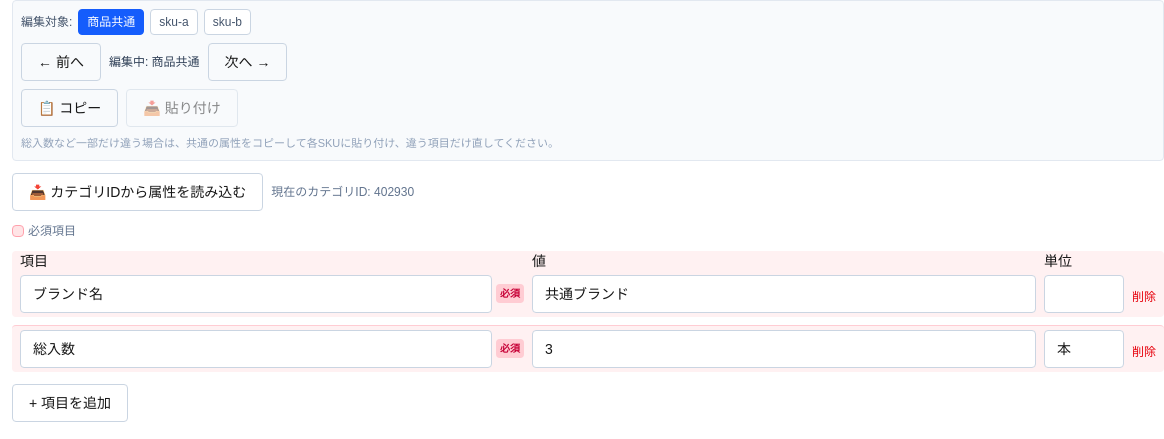
AttributeSection SKU単位の属性編集 › コピー→別SKUへ切替→貼り付けで、属性値がそのSKUへ複製される
This screenshot has width=1164, height=439.
Note: 商品共通の属性一式をコピー。
Click the button "📋 コピー": (70, 108) left=21, top=89, right=118, bottom=127
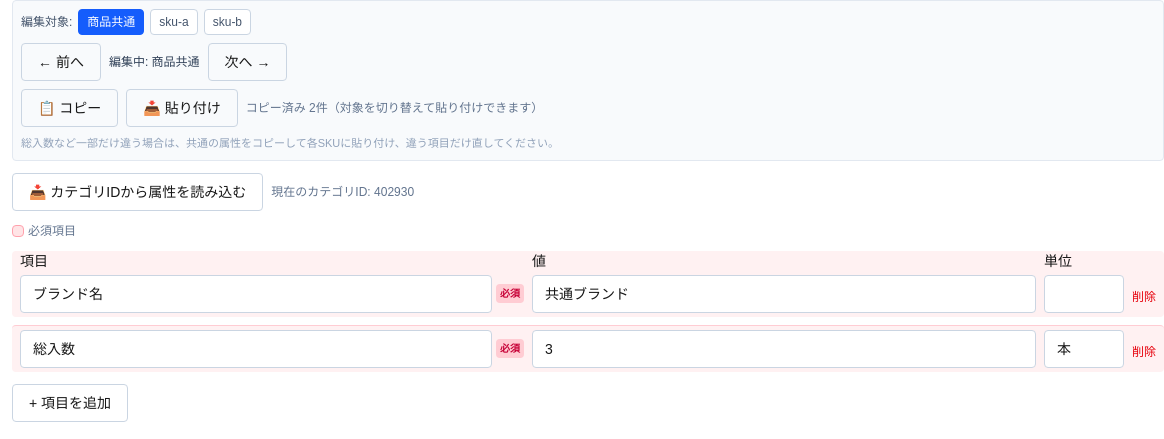
Click the button "次へ →": (248, 62) left=208, top=43, right=288, bottom=81
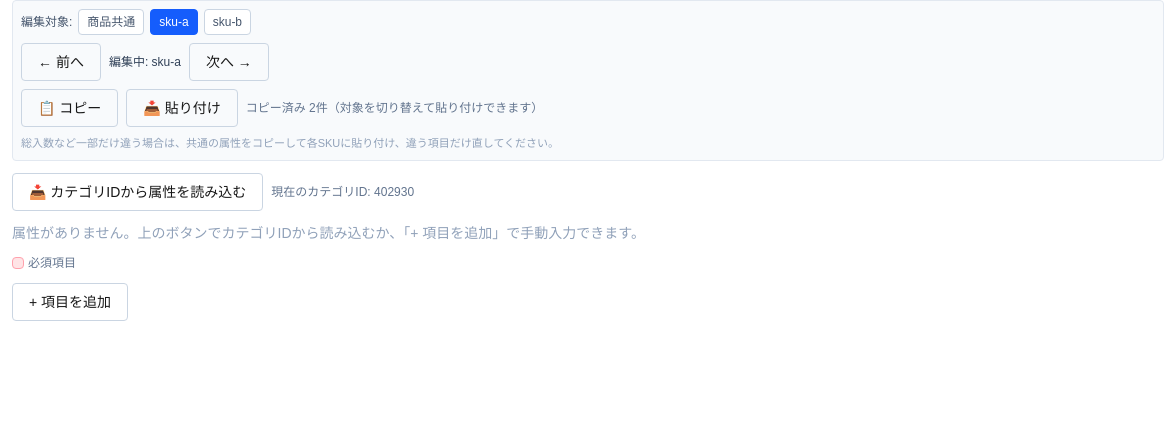
expect the text "編集中: sku-a" is shown: met, box left=109, top=54, right=181, bottom=70
expect the text "属性がありません。上のボタンでカテゴリIDから読み込むか、「+ 項目を追加」で手動入力できます。" is shown: met, box left=12, top=224, right=645, bottom=240
Note: 貼り付けると商品共通の値がsku-aへ反映される。
Click the button "📥 貼り付け": (182, 108) left=126, top=89, right=238, bottom=127
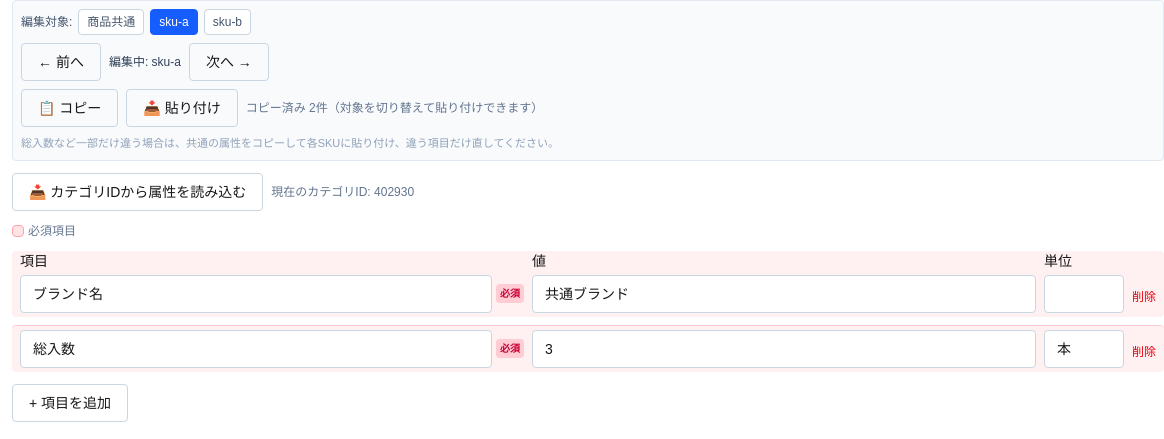
expect the field named "属性1 値" holds "共通ブランド": met, box left=532, top=274, right=1036, bottom=312
expect the field named "属性1 項目" holds "ブランド名": met, box left=20, top=274, right=492, bottom=312
expect the field named "属性2 項目" holds "総入数": met, box left=20, top=330, right=492, bottom=368
